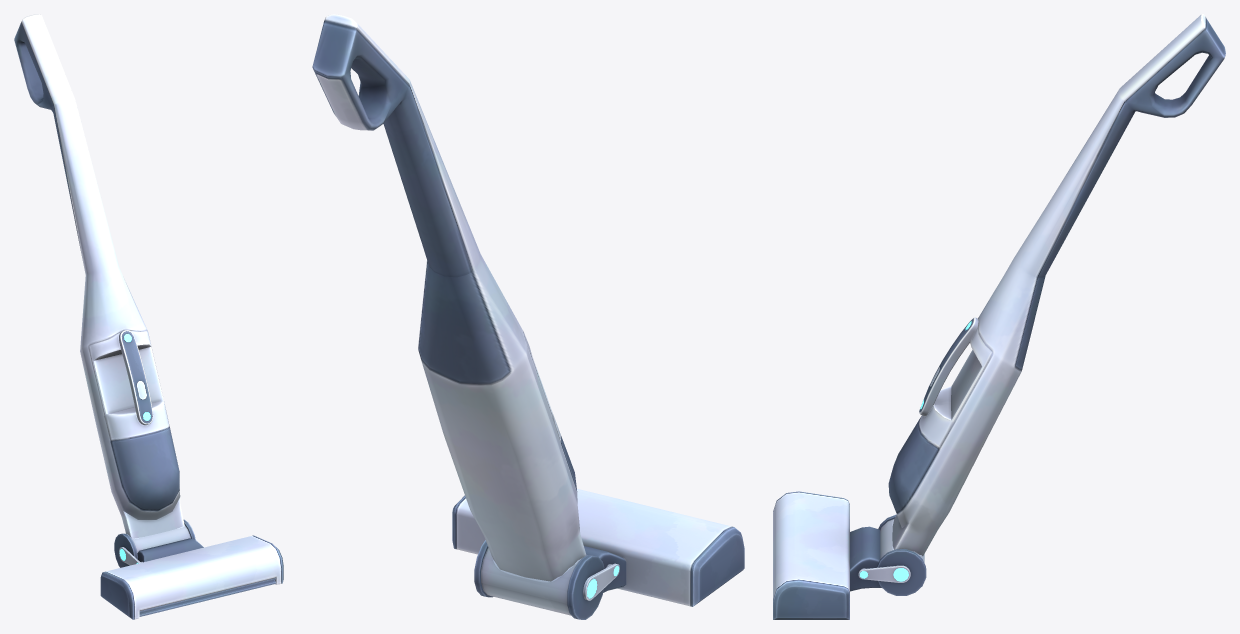
Rendered from obj_vacuum.gltf.
The picture shows the model from 3 angles, left to right: view 1: azimuth 30°, elevation 25°; view 2: azimuth 150°, elevation 25°; view 3: azimuth 270°, elevation 25°; orthographic projection. The views are drawn at different scales.
Parts seen in each view (by area): view 1: obj_vacuum; view 2: obj_vacuum; view 3: obj_vacuum.
Part boxes in pixels (x1,y1,x2,y2): obj_vacuum: (14,14,283,619); obj_vacuum: (312,14,744,619); obj_vacuum: (773,14,1225,619).
Size of what is drawn, in the model's own units: 0.4046 by 1.15 by 0.8394.
1 material, 1 textured.
